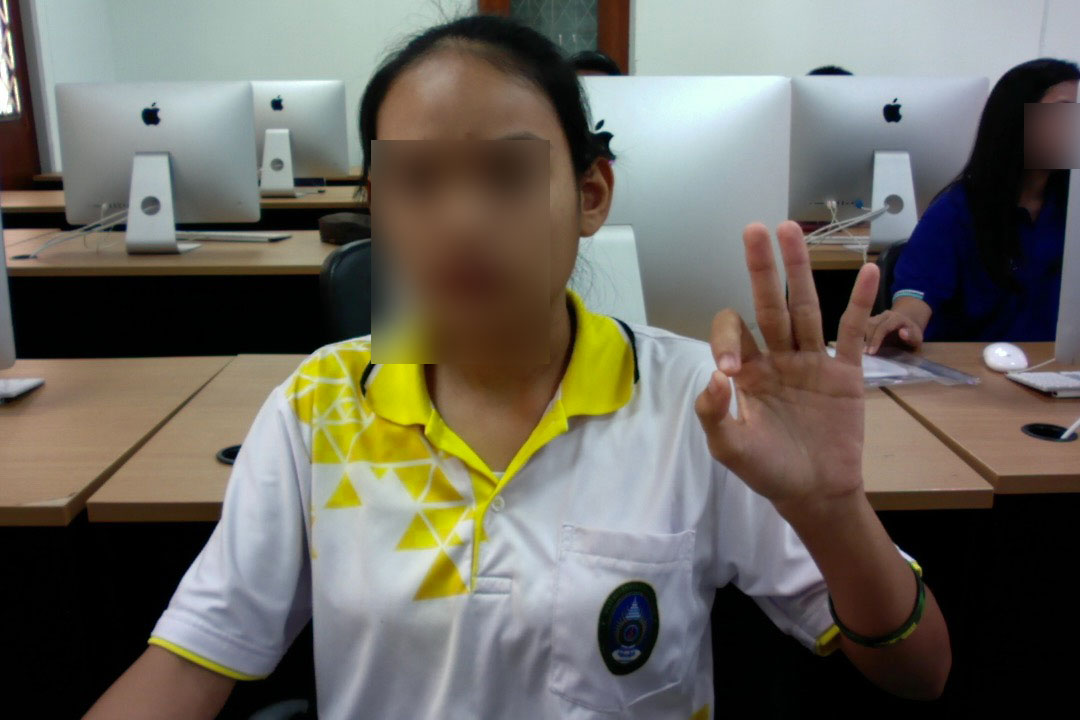for: (669, 198, 908, 532)
